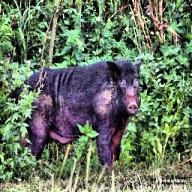boar: (4, 57, 142, 173)
